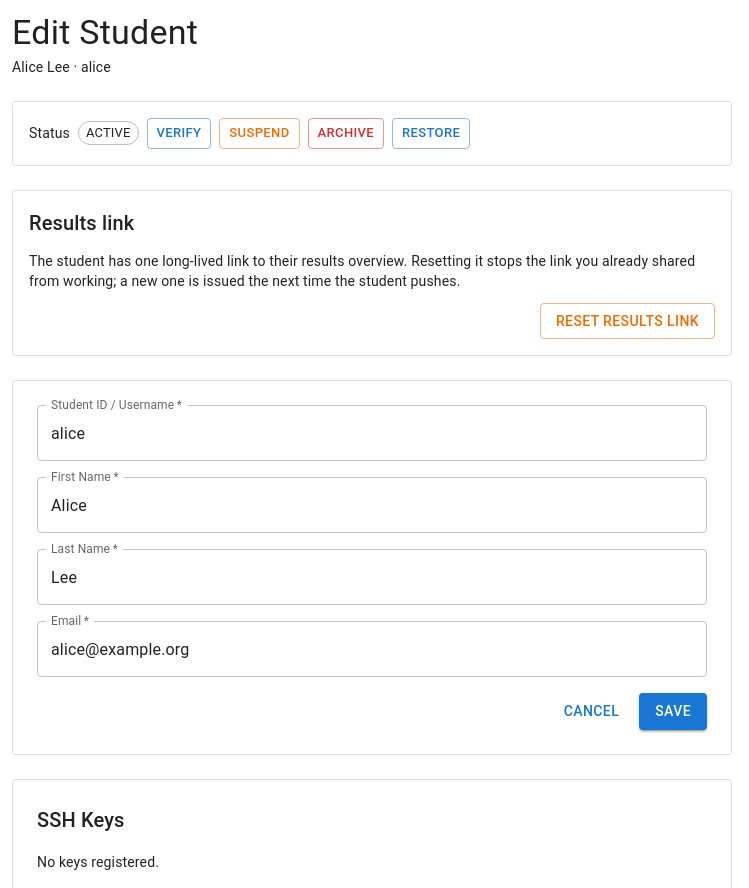
Test: shows the field the server rejected the update on
The width and height of the screenshot is (749, 888).
expect the heading "Edit Student" is shown: met, box x1=12 y1=12 x2=198 y2=52
Click the button "Save".
click(673, 711)  # box x1=639 y1=693 x2=707 y2=730
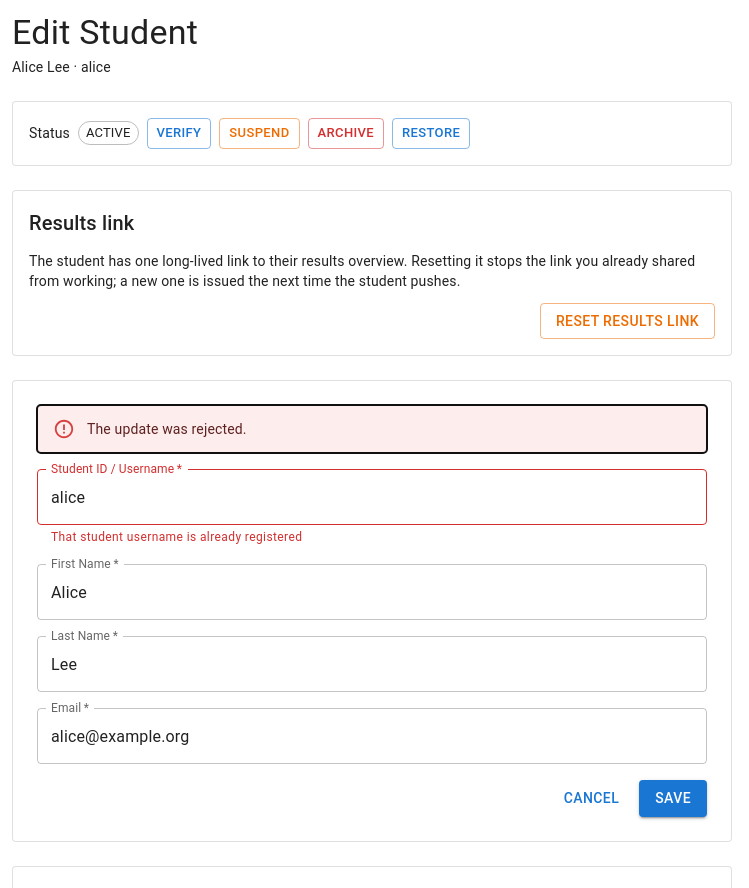
expect the button "Save" is enabled: met, box x1=639 y1=780 x2=707 y2=816
expect the text "The update was rejected." is shown: met, box x1=87 y1=421 x2=247 y2=437
expect the text "That student username is already registered" is shown: met, box x1=51 y1=530 x2=302 y2=544
